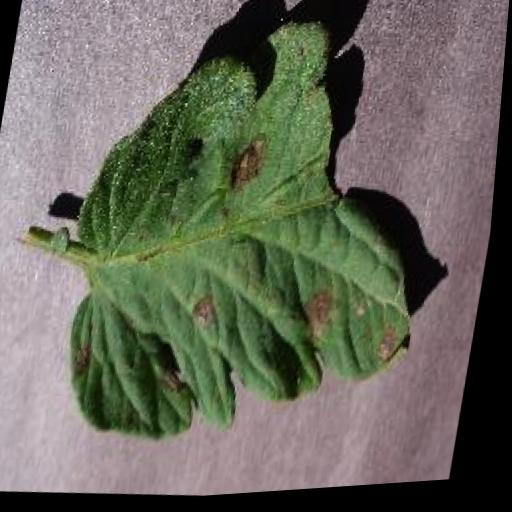Early Blight: (45, 0, 469, 473)
